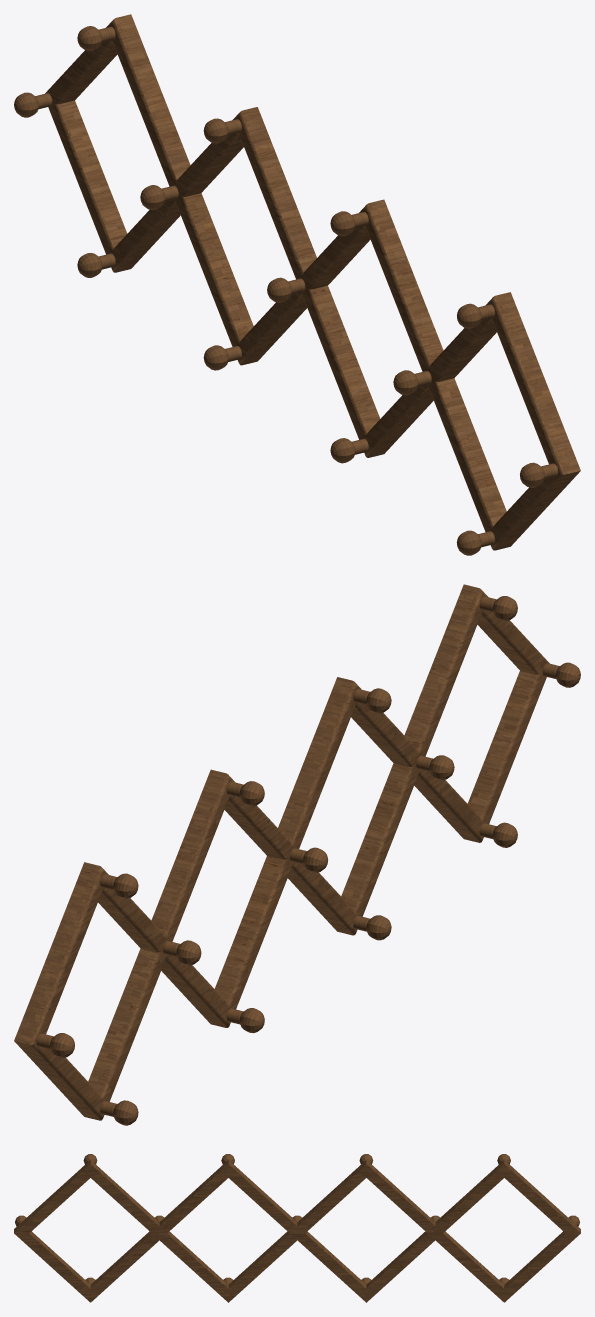
File: hanger.fbx
3 renders of one model, top to bottom at view 1: azimuth 30°, elevation 25°; view 2: azimuth 150°, elevation 25°; view 3: azimuth 270°, elevation 25°, orthographic. The views are drawn at different scales.
Parts seen in each view (by area): view 1: hanger; view 2: hanger; view 3: hanger.
Part boxes in pixels (box(x1,y1,x2,y2)): hanger: box(14, 14, 580, 555); hanger: box(14, 584, 580, 1125); hanger: box(14, 1154, 580, 1302).
Bounding box in the file's own units: 0.00421 × 0.0196 × 0.0724.
1 material, 1 textured.
